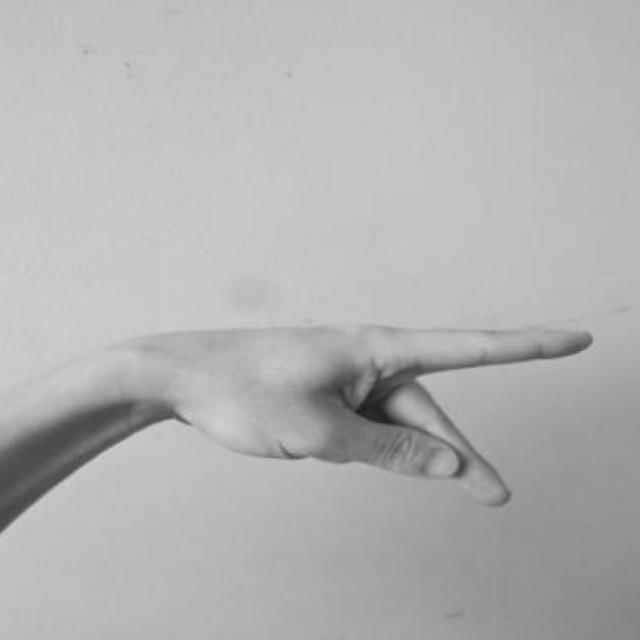P: (132, 302, 597, 517)
